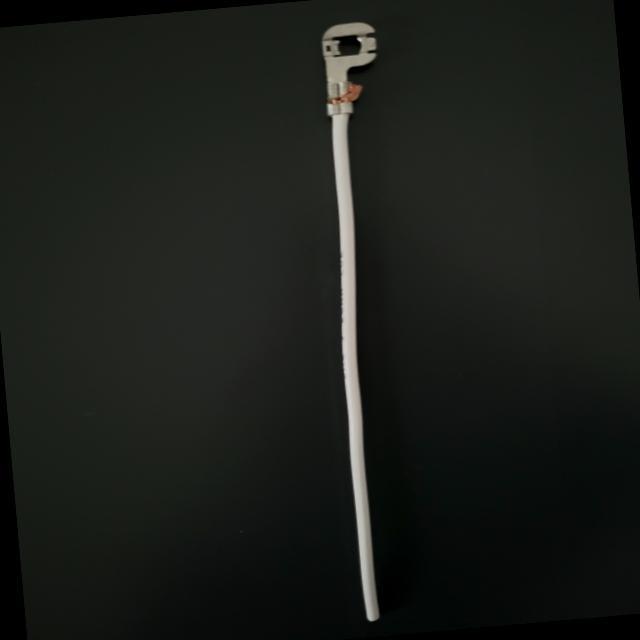defect: (228, 60, 436, 134)
